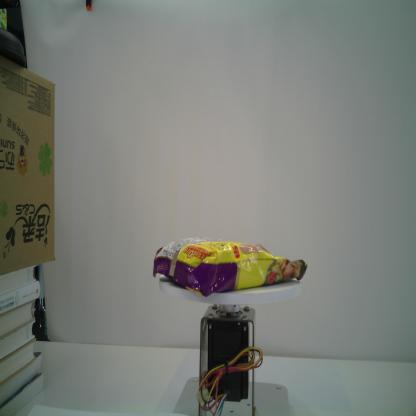Instant Noodles: (151, 236, 309, 300)
